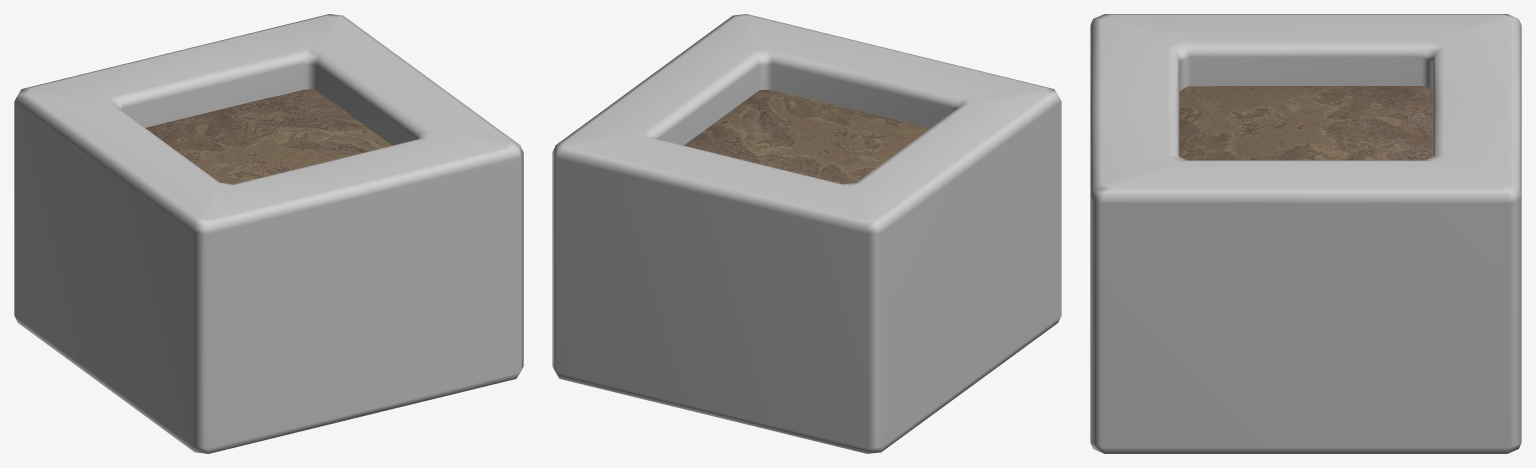
Rendered from SM_Rect_Base_1X1.fbx.
3 renders of one model, left to right at view 1: azimuth 30°, elevation 25°; view 2: azimuth 150°, elevation 25°; view 3: azimuth 270°, elevation 25°, orthographic. The views are drawn at different scales.
Visible parts, largest first — view 1: SM_Rect_Base_1X1_LOD0; view 2: SM_Rect_Base_1X1_LOD0; view 3: SM_Rect_Base_1X1_LOD0.
Boxes of the visible parts, x1,y1,x2,y2 form: SM_Rect_Base_1X1_LOD0: (14,14,523,453); SM_Rect_Base_1X1_LOD0: (552,14,1061,453); SM_Rect_Base_1X1_LOD0: (1090,14,1521,453).
Size of the model in its own units: 98.84 by 98.43 by 66.6.
